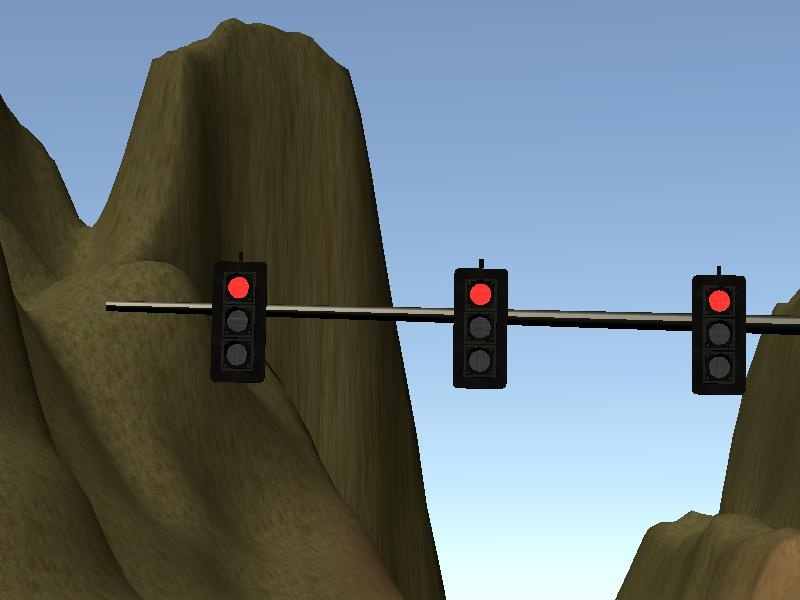red: (443, 258, 517, 394), (684, 265, 751, 402), (209, 254, 273, 388)
